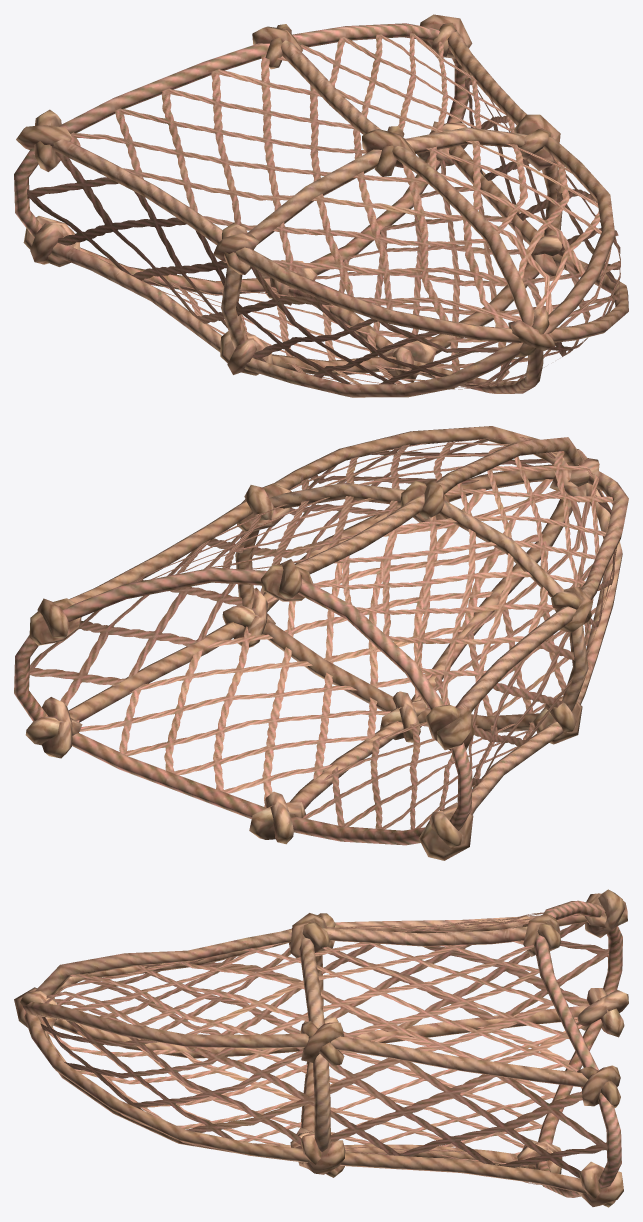
3 renders of one model, top to bottom at view 1: azimuth 30°, elevation 25°; view 2: azimuth 150°, elevation 25°; view 3: azimuth 270°, elevation 25°, orthographic. The views are drawn at different scales.
Parts seen in each view (by area): view 1: SM_Fishing_Net_Wool_LOD0; view 2: SM_Fishing_Net_Wool_LOD0; view 3: SM_Fishing_Net_Wool_LOD0.
Boxes of the visible parts, box(x1,y1,x2,y2) form: SM_Fishing_Net_Wool_LOD0: box(14, 14, 628, 397); SM_Fishing_Net_Wool_LOD0: box(14, 426, 628, 860); SM_Fishing_Net_Wool_LOD0: box(14, 889, 628, 1207).
Bounding box in the file's own units: 0.4682 × 0.2739 × 0.5942.
Materials: 1 (1 with a texture image).
